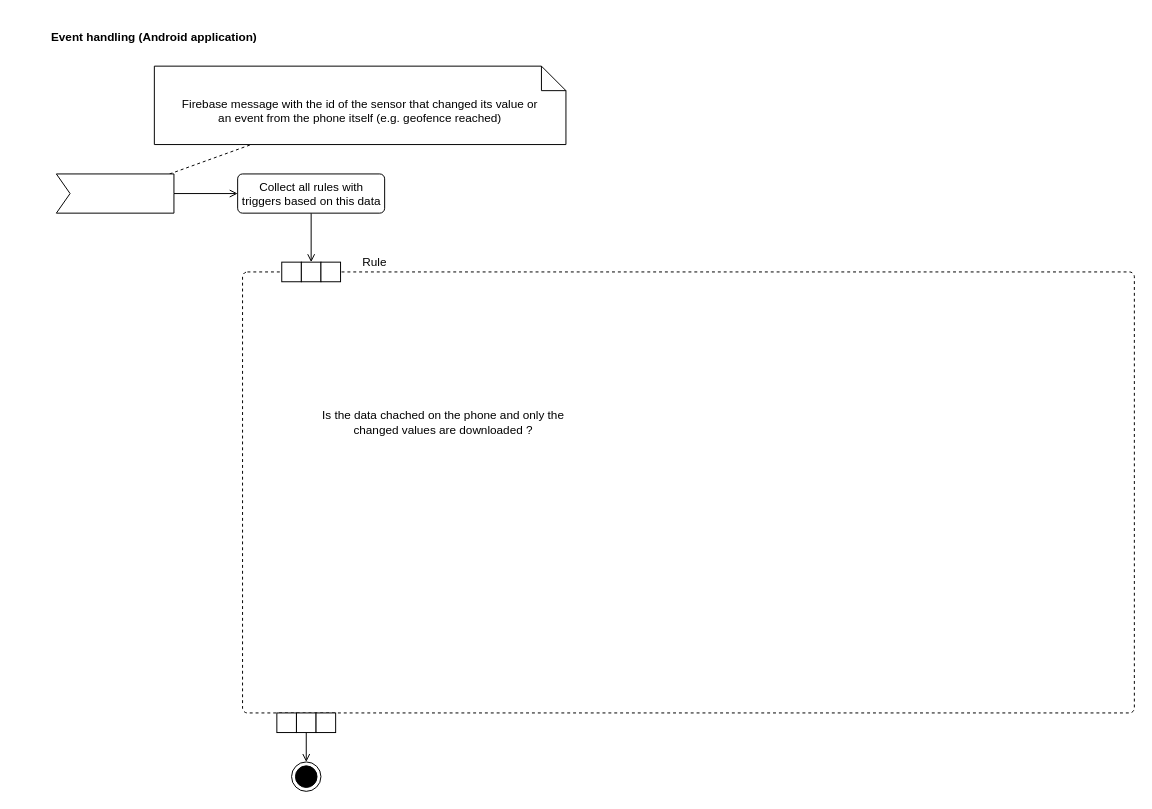
This 1152x809 diagram has some shape labels left out. The box of each missing label's shape, as (x1, y1, x2, y2) in pixels:
<<iterative>>: (242, 271, 1134, 713)
Receive data changed event: (55, 173, 174, 213)
